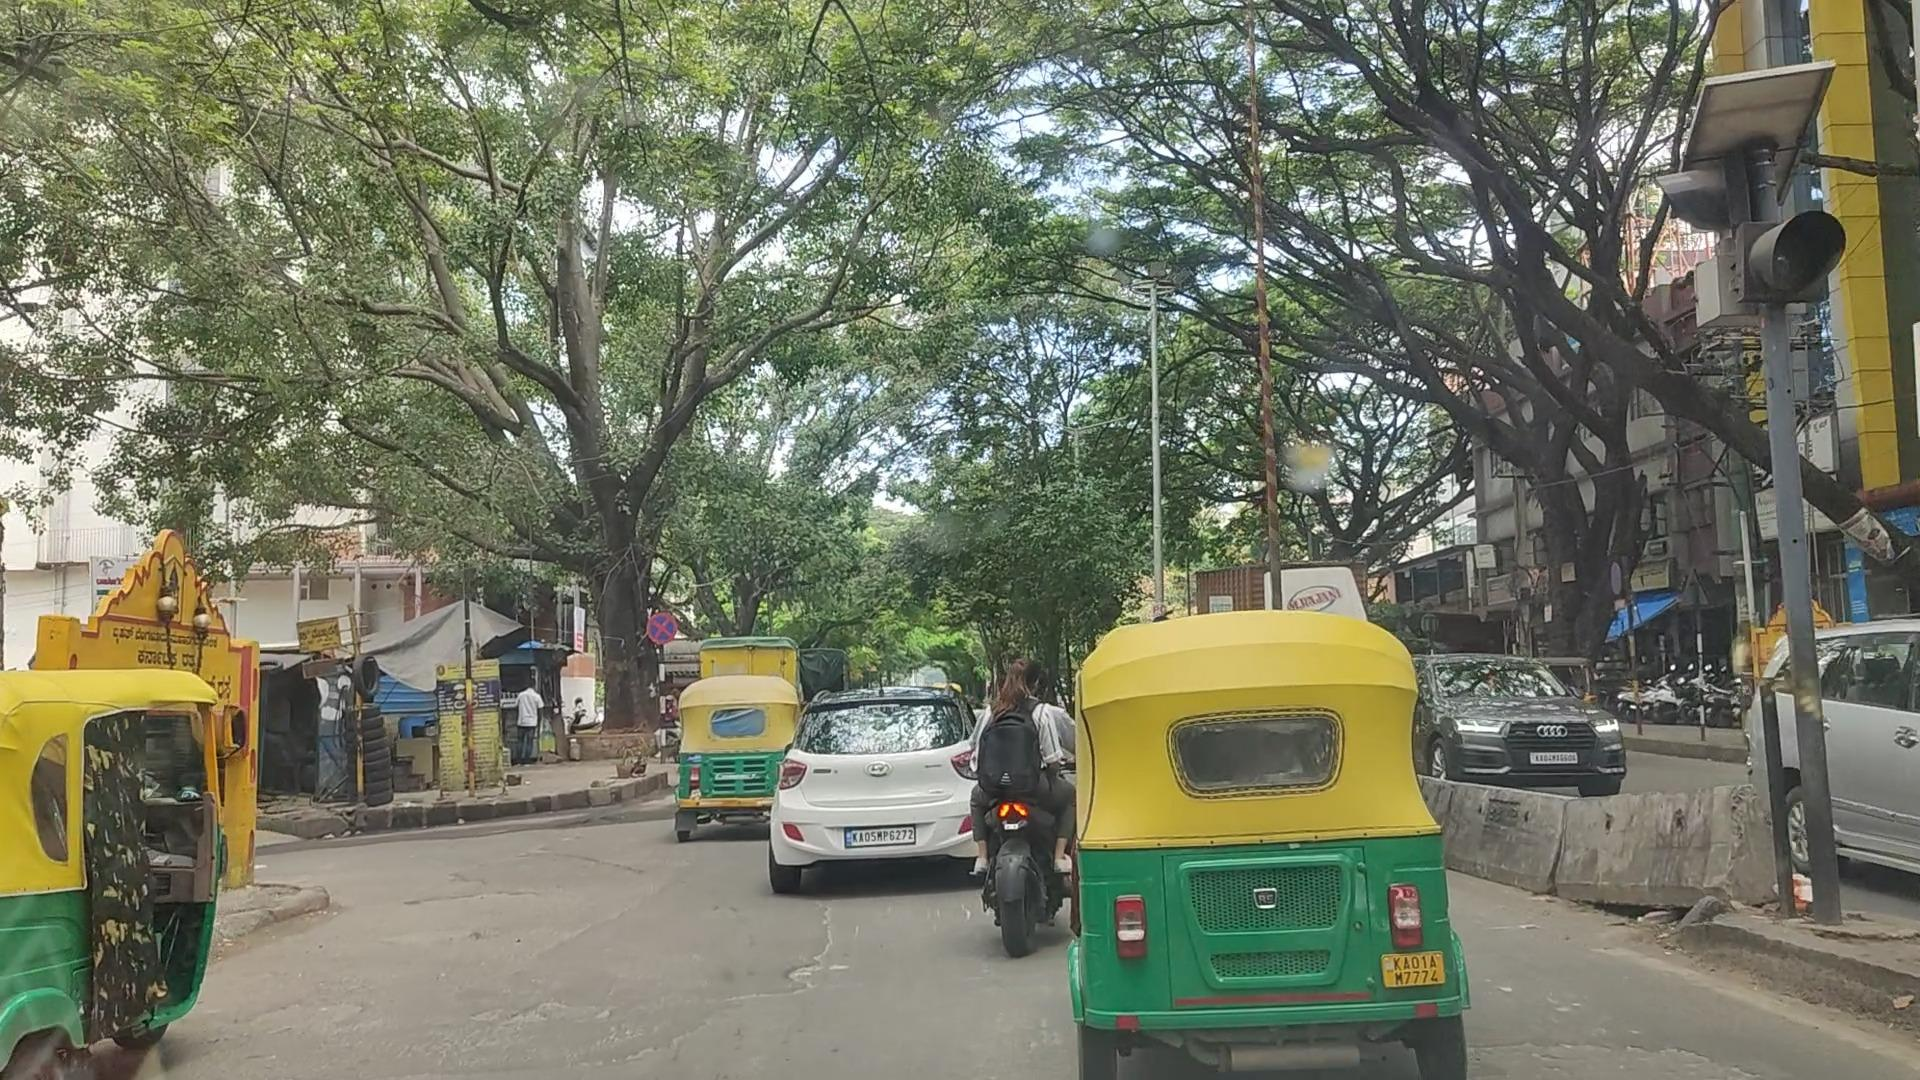LMV: (1068, 628, 1465, 1067), (774, 688, 978, 885), (982, 665, 1068, 951), (680, 680, 793, 822)
RoadDamages: (471, 978, 725, 1075), (1474, 1005, 1771, 1080), (384, 870, 574, 935), (778, 894, 856, 1010), (235, 994, 376, 1052)
